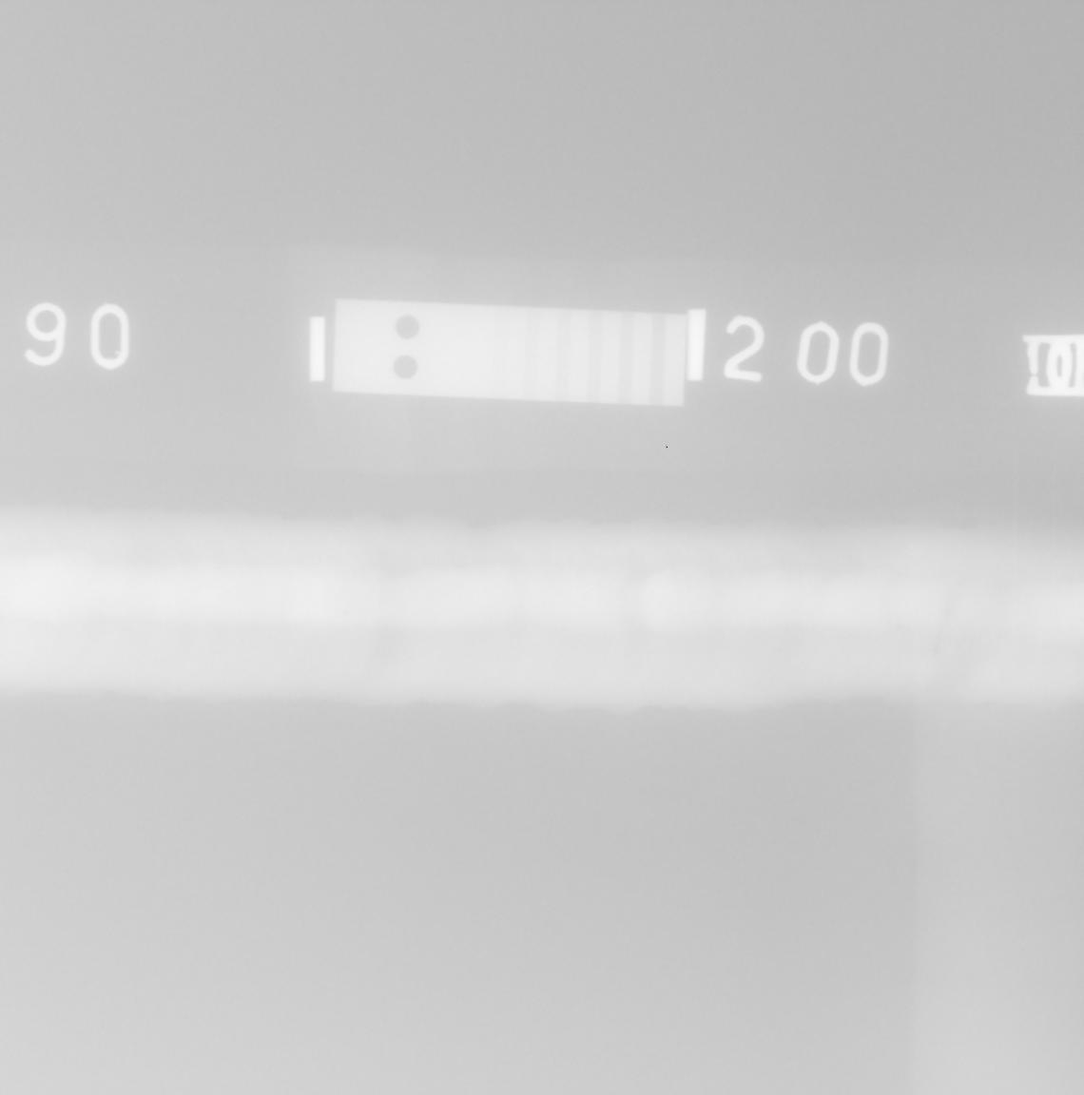Inclusion: (933, 627, 943, 654), (944, 608, 950, 622)
Pore/Porosity: (341, 610, 350, 618), (898, 625, 903, 631), (776, 646, 781, 652), (904, 542, 908, 548), (898, 573, 902, 577), (894, 551, 898, 554)
Reference Standard 2: (332, 298, 687, 407)
